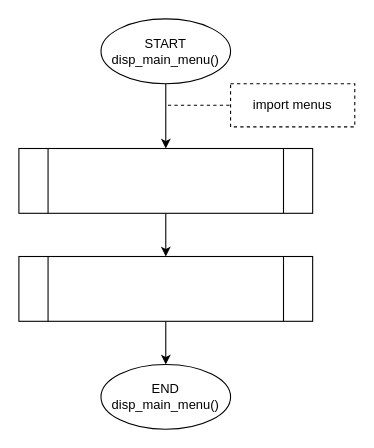
The diagram is 374 pixels wide and 448 high, and some of its shapes have lost their labels. Each missing label, with the box of its shape:
menus.disp_header("SINGAPORE ACTIVE DENTISTS 2 PORTAL"): (18, 147, 313, 213)
menus.disp_menu("MAIN MENU", main_menu_dict): (18, 255, 313, 321)
